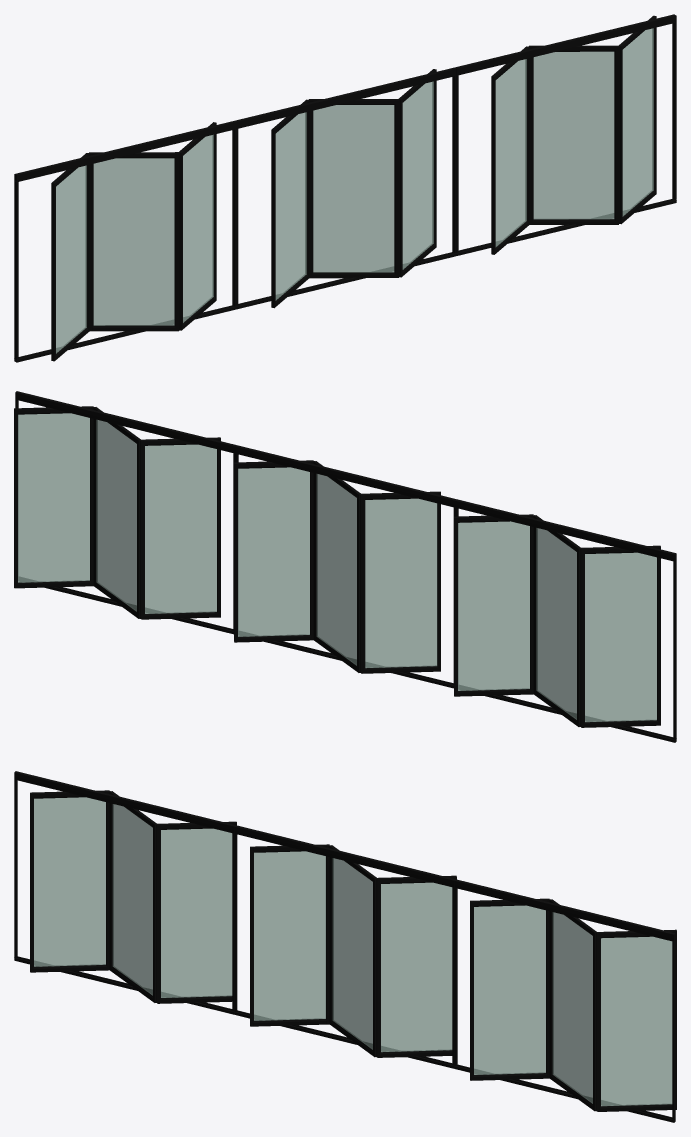
Rendered from windows 1.FBX.
3 renders of one model, top to bottom at view 1: azimuth 30°, elevation 25°; view 2: azimuth 150°, elevation 25°; view 3: azimuth 330°, elevation 25°, orthographic.
Visible parts, largest first — view 1: windows 1; view 2: windows 1; view 3: windows 1.
Boxes of the visible parts, box(x1,y1,x2,y2) form: windows 1: box(14, 14, 676, 362); windows 1: box(14, 391, 676, 742); windows 1: box(14, 771, 676, 1122).
Bounding box in the file's own units: 7738 × 502 × 2102.
